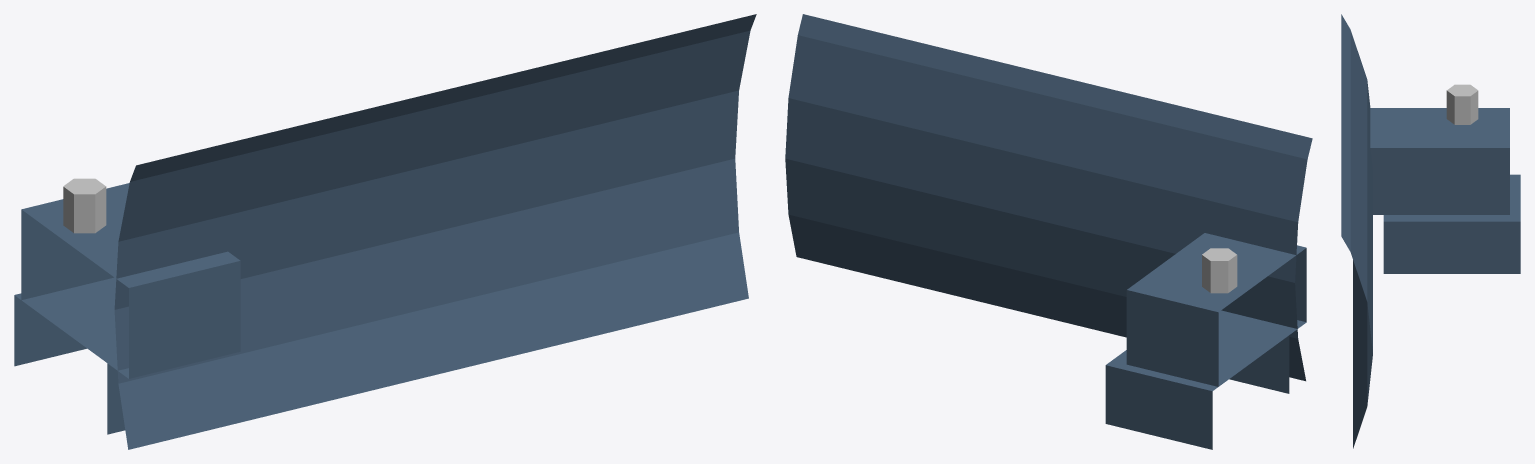
The model's file is cell_28.obj.
The picture shows the model from 3 angles, left to right: view 1: azimuth 30°, elevation 25°; view 2: azimuth 150°, elevation 25°; view 3: azimuth 270°, elevation 25°; orthographic projection. The views are drawn at different scales.
Size of the model in its own units: 1 by 0.4468 by 0.34.
